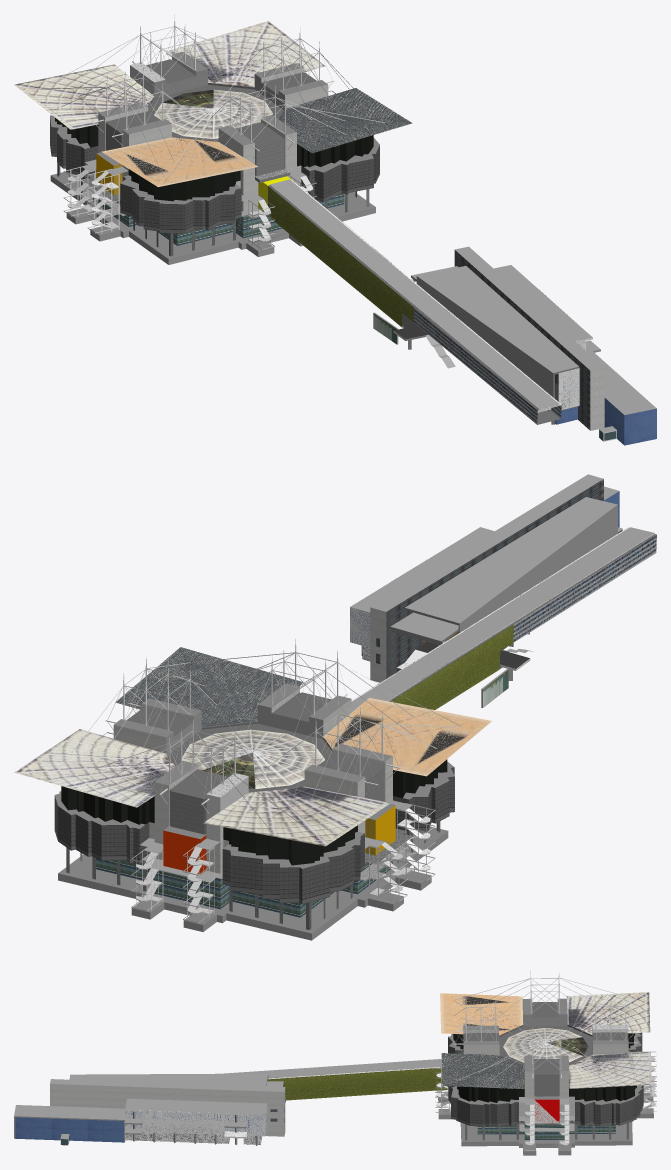
Rendered from Oceanario.dae.
The picture shows the model from 3 angles, top to bottom: view 1: azimuth 30°, elevation 25°; view 2: azimuth 150°, elevation 25°; view 3: azimuth 270°, elevation 25°; orthographic projection. The views are drawn at different scales.
Parts seen in each view (by area): view 1: SketchUp (×34); view 2: SketchUp (×40); view 3: SketchUp (×38).
Boxes of the visible parts, box(x1,y1,x2,y2) form: SketchUp (×34): box(14, 21, 656, 445); SketchUp (×40): box(14, 474, 656, 940); SketchUp (×38): box(14, 992, 653, 1155).
Bounding box in the file's own units: 3216 × 8925 × 1585.
